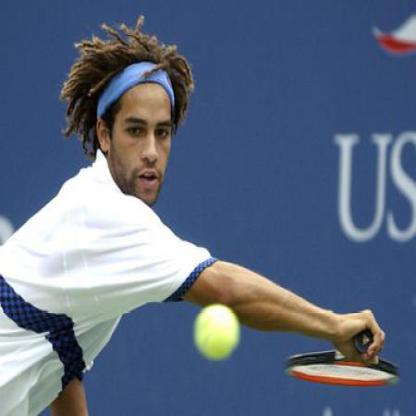face: (109, 57, 176, 212)
